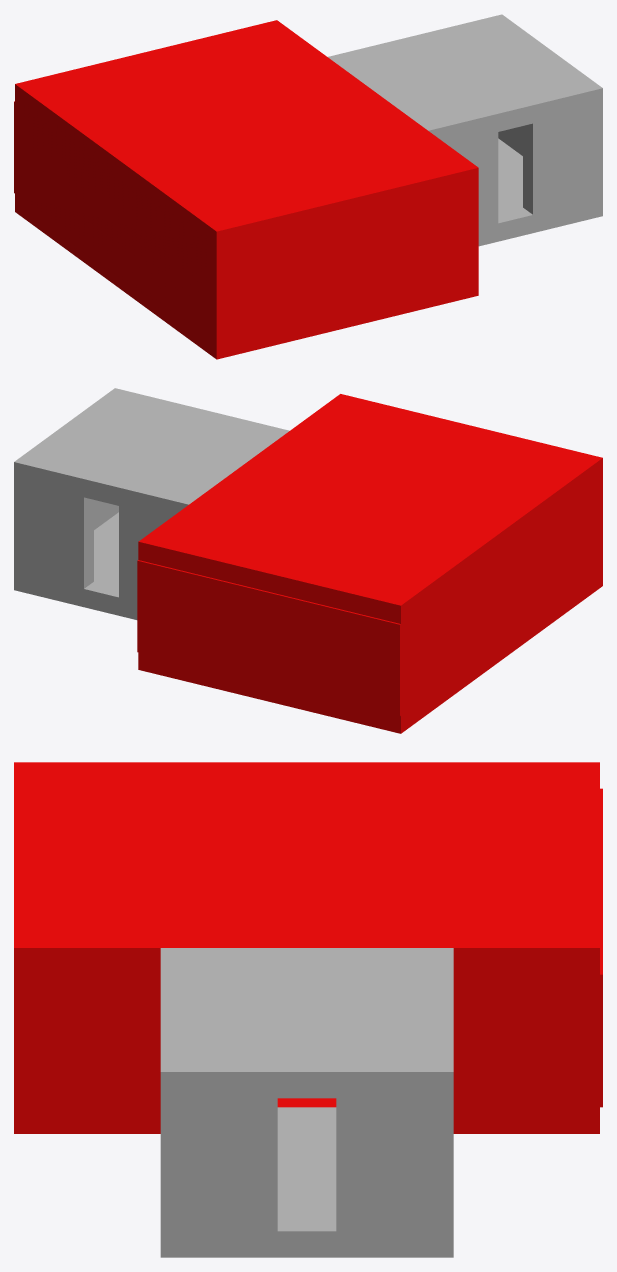
The model's file is StartRoom.fbx.
3 renders of one model, top to bottom at view 1: azimuth 30°, elevation 25°; view 2: azimuth 150°, elevation 25°; view 3: azimuth 270°, elevation 25°, orthographic. The views are drawn at different scales.
Parts seen in each view (by area): view 1: Floor__1_, Cube, Floor__2_, Cube_2, Floor_1, Cube__2__2, Floor, Cube_5, Cube__1__1, Cube__2__1; view 2: Floor__1_, Cube__1__1, Floor__2_, Cube_2, Floor_1, Cube_3, Floor, Cube__2__4, Cube__2__1, Cube_4; view 3: Floor__1_, Floor__2_, Cube_4, Floor, Cube__3_, Cube__5_, Cube__2__1, Floor_1, Cube__1__1, Cube_1, Cube_3, Cube (+2 smaller).
Part boxes in pixels (bbox=[...]): Floor__1_: bbox=[15, 20, 478, 249]; Cube: bbox=[207, 186, 478, 340]; Floor__2_: bbox=[328, 14, 602, 144]; Cube_2: bbox=[18, 105, 234, 340]; Floor_1: bbox=[15, 194, 478, 359]; Cube__2__2: bbox=[523, 106, 602, 214]; Floor: bbox=[478, 138, 602, 246]; Cube_5: bbox=[447, 132, 498, 227]; Cube__1__1: bbox=[14, 101, 23, 199]; Cube__2__1: bbox=[498, 126, 522, 155]; Floor__1_: bbox=[138, 394, 602, 623]; Cube__1__1: bbox=[137, 560, 409, 716]; Floor__2_: bbox=[14, 388, 289, 518]; Cube_2: bbox=[410, 476, 602, 708]; Floor_1: bbox=[138, 568, 602, 733]; Cube_3: bbox=[14, 480, 93, 588]; Floor: bbox=[14, 512, 137, 619]; Cube__2__4: bbox=[119, 506, 169, 601]; Cube__2__1: bbox=[14, 481, 30, 574]; Cube_4: bbox=[94, 500, 118, 529]; Floor__1_: bbox=[14, 762, 599, 974]; Floor__2_: bbox=[160, 948, 453, 1098]; Cube_4: bbox=[160, 1098, 277, 1231]; Floor: bbox=[160, 1107, 453, 1257]; Cube__3_: bbox=[453, 974, 590, 1107]; Cube__5_: bbox=[25, 974, 160, 1107]; Cube__2__1: bbox=[336, 1098, 453, 1231]; Floor_1: bbox=[14, 1098, 599, 1133]; Cube__1__1: bbox=[573, 788, 602, 1107]; Cube_1: bbox=[131, 974, 160, 1107]; Cube_3: bbox=[424, 1098, 453, 1231]; Cube: bbox=[14, 974, 43, 1107].
Bounding box in the file's own units: 2500 × 700 × 2010.
